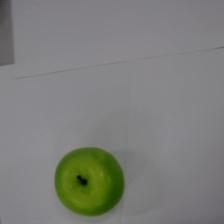green: (55, 148, 124, 215)
